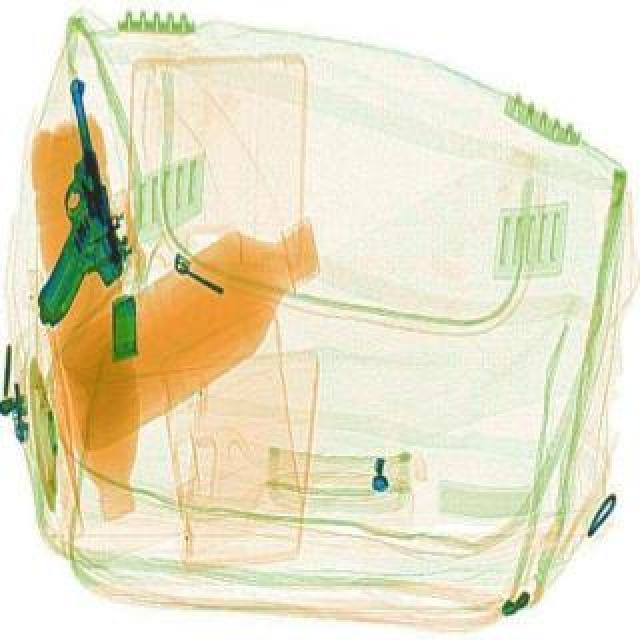gun: (34, 74, 124, 324)
